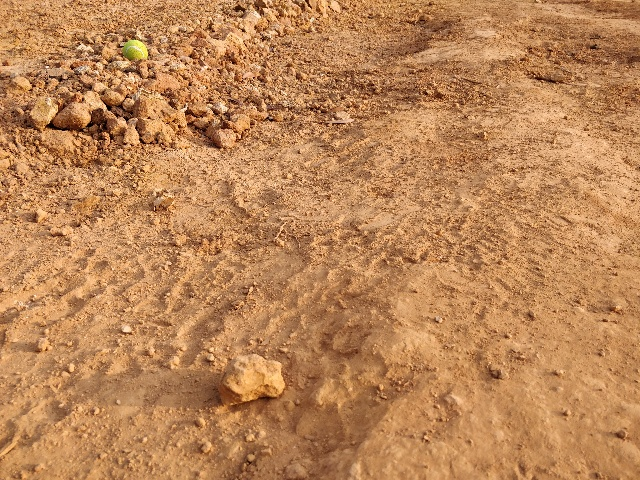ball: (119, 37, 150, 64)
